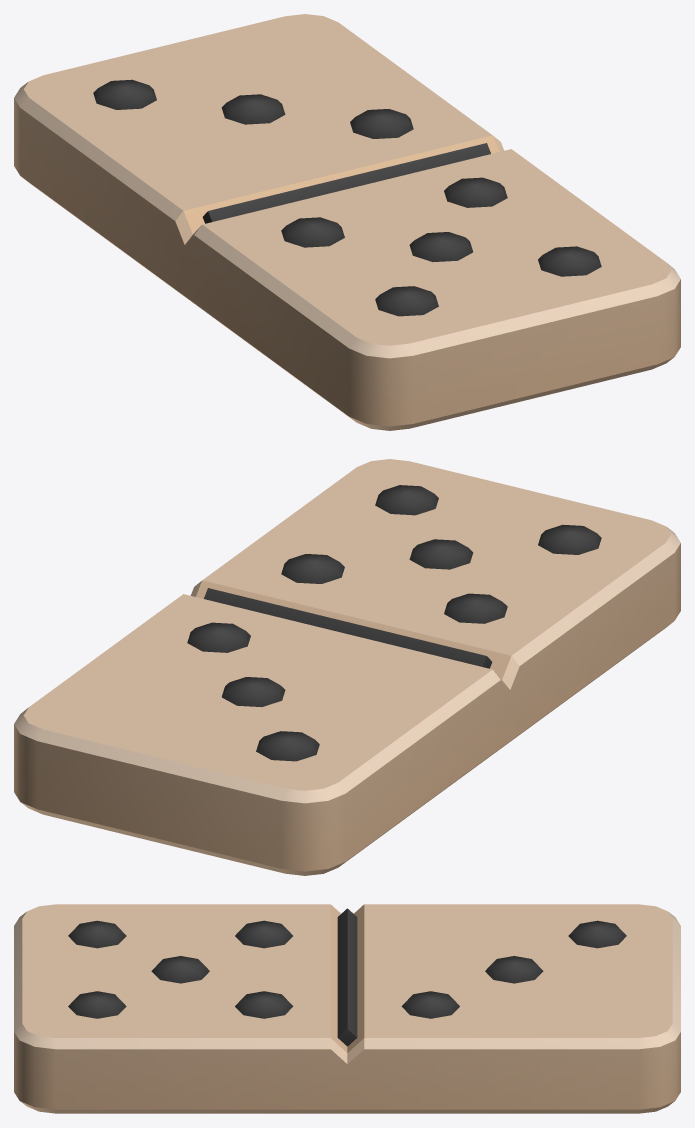
File: domino_tile_3-5.obj
3 renders of one model, top to bottom at view 1: azimuth 30°, elevation 25°; view 2: azimuth 150°, elevation 25°; view 3: azimuth 270°, elevation 25°, orthographic. The views are drawn at different scales.
Visible parts, largest first — view 1: domino_tile_3-5; view 2: domino_tile_3-5; view 3: domino_tile_3-5.
Part boxes in pixels (x1,y1,x2,y2): domino_tile_3-5: (14,14,680,430); domino_tile_3-5: (14,459,680,875); domino_tile_3-5: (14,904,680,1113).
Size of the model in its own units: 1 by 0.2767 by 2.
Materials: 1 (1 with a texture image).
